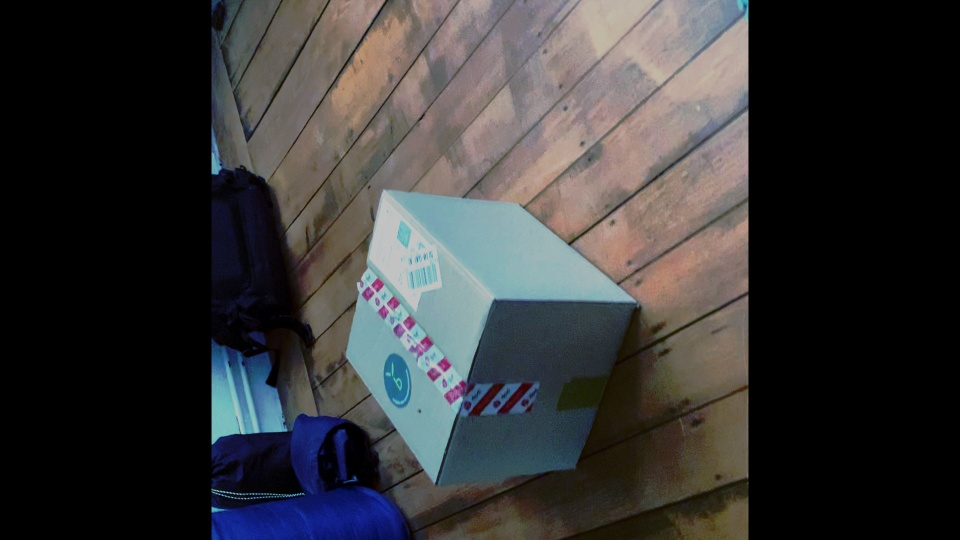good-parcel: (336, 184, 642, 490)
